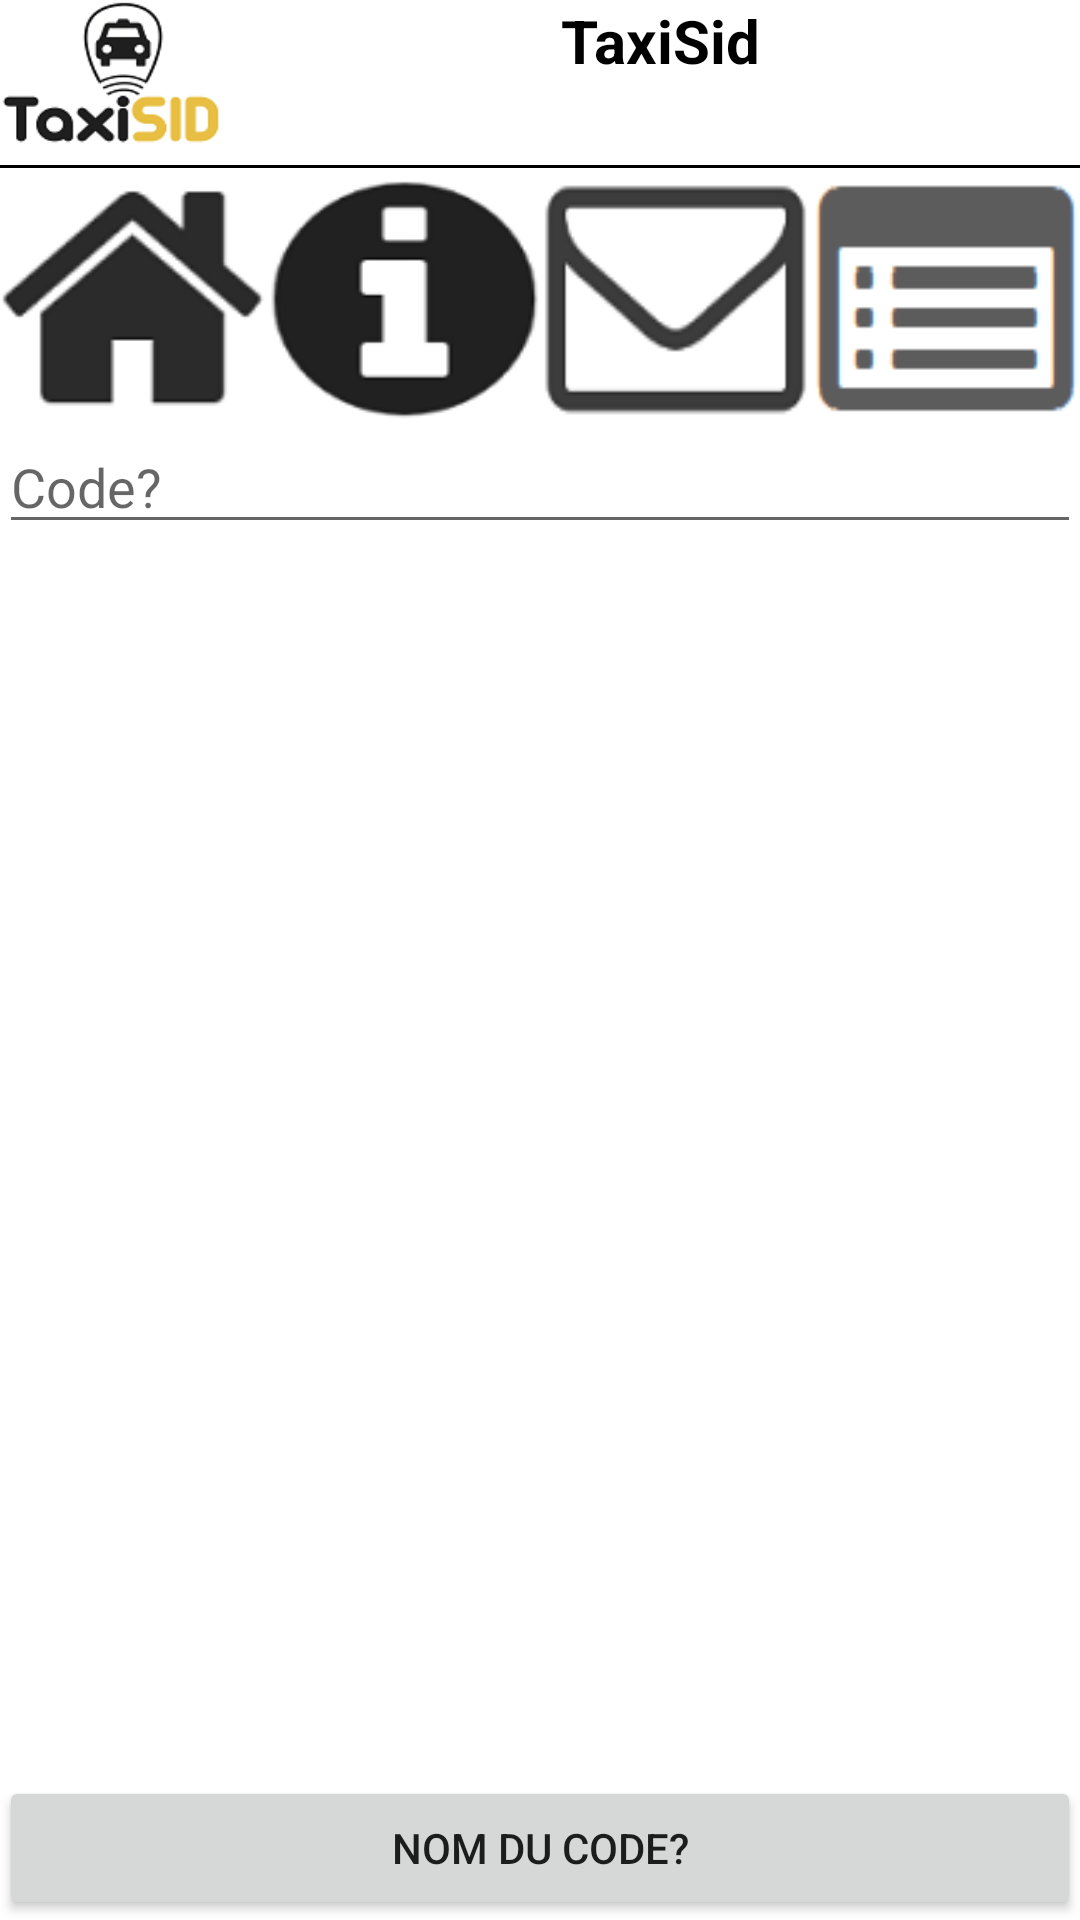

Where to tap for icons on this 1080 × 1920 app screen, as point (x, y):
enveloppe: point (675, 299)
home: point (132, 298)
